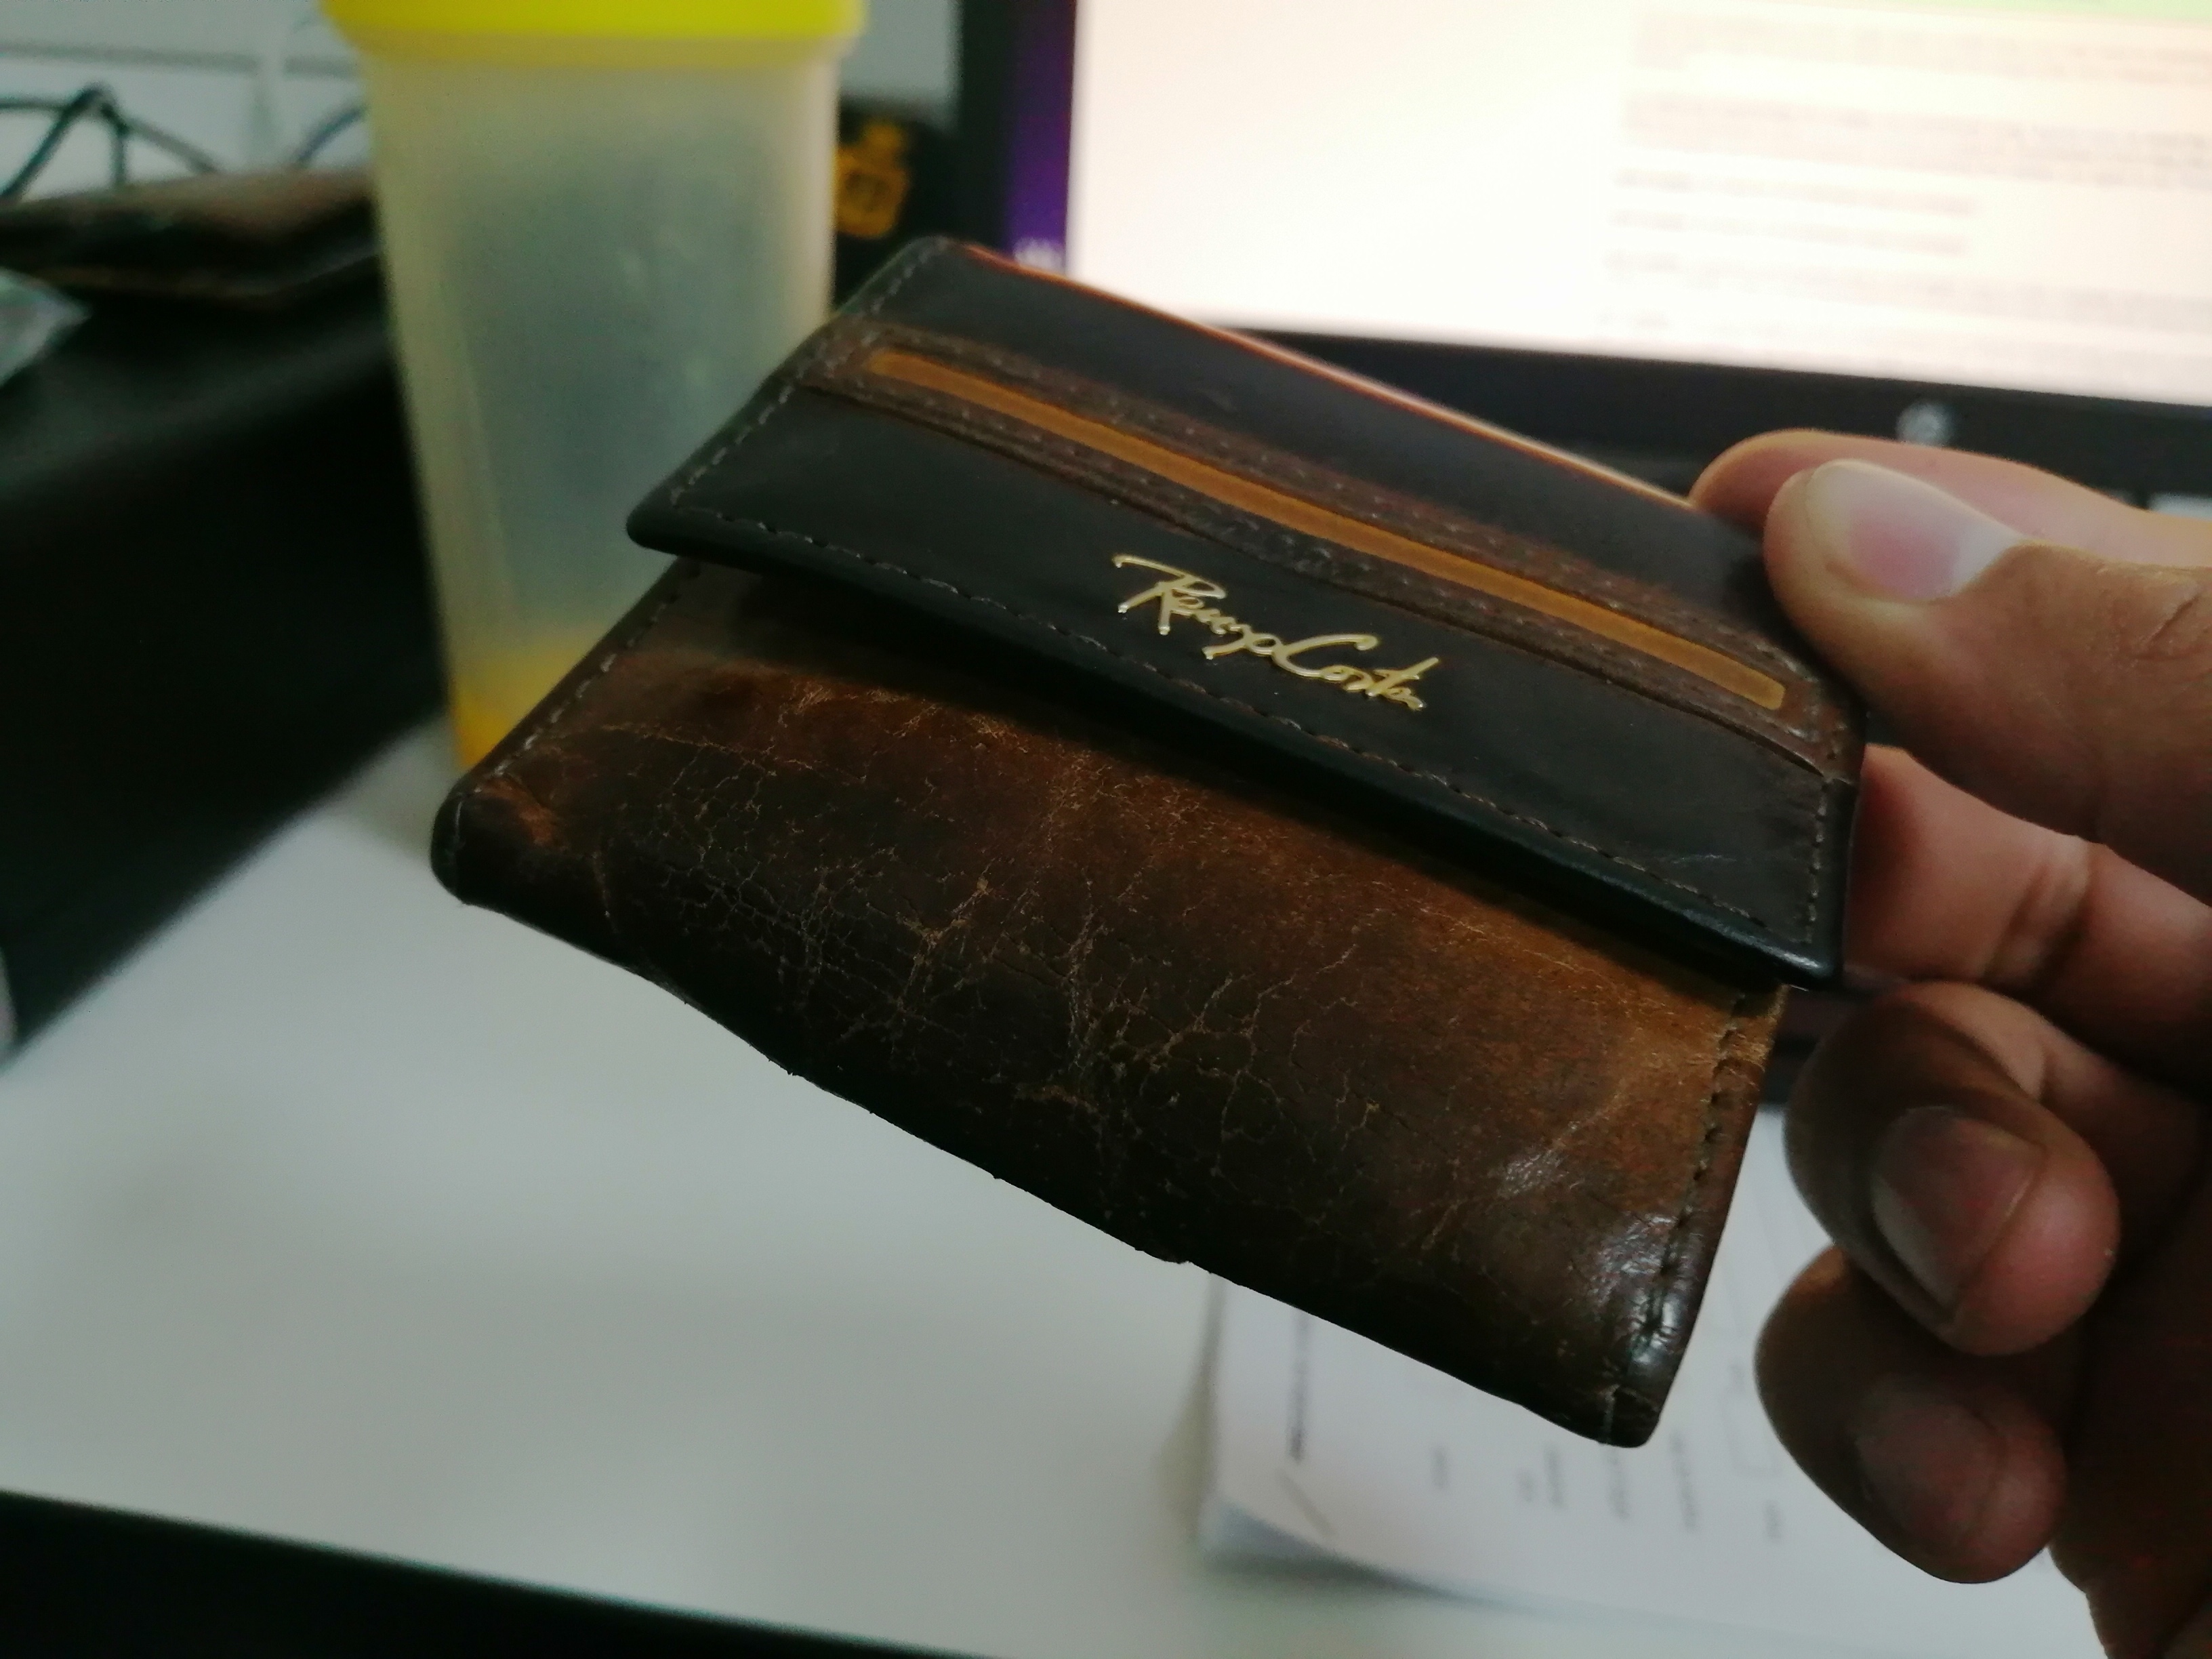monedero: (404, 213, 1909, 1467)
